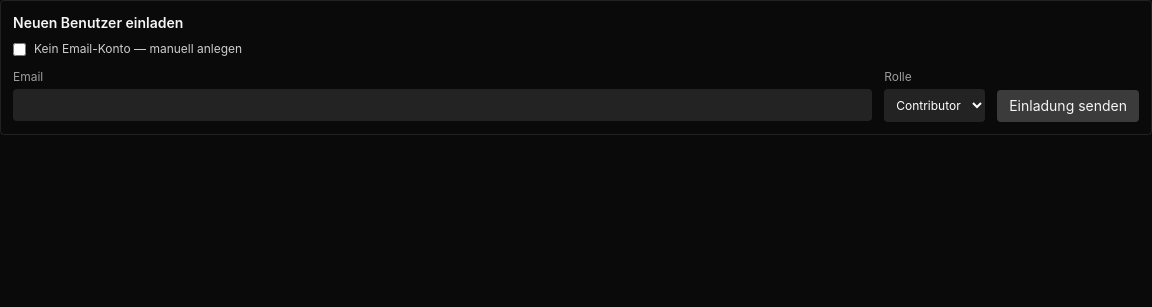
it: InviteUserForm › manual mode submits with password and shows credentials block on success
Click the checkbox labelled "Kein Email-Konto — manuell anlegen".
click(20, 49)  # box [13, 42, 26, 56]
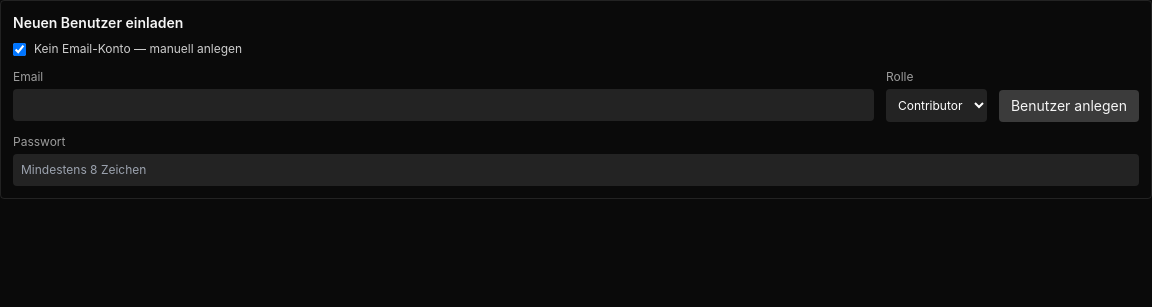
Type "helga@kunstmeile.local" into the field labelled "Email".
click(443, 105); type("helga@kunstmeile.local")  # box [13, 89, 874, 121]
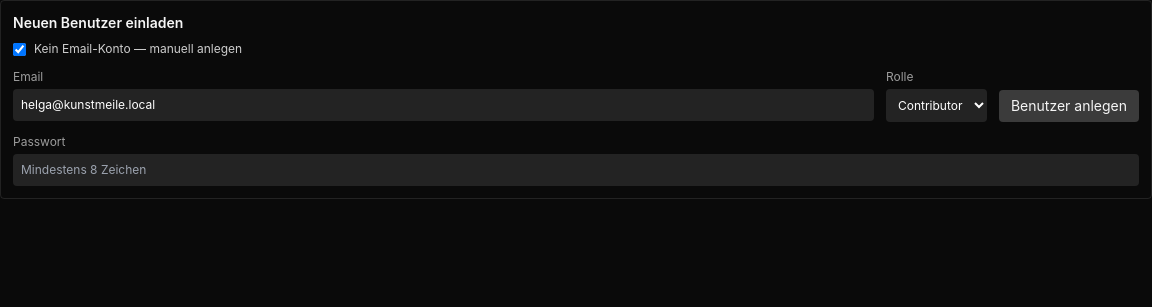
Type "sup3rsecret" into the password field labelled "Passwort".
click(576, 170); type("sup3rsecret")  # box [13, 154, 1139, 186]
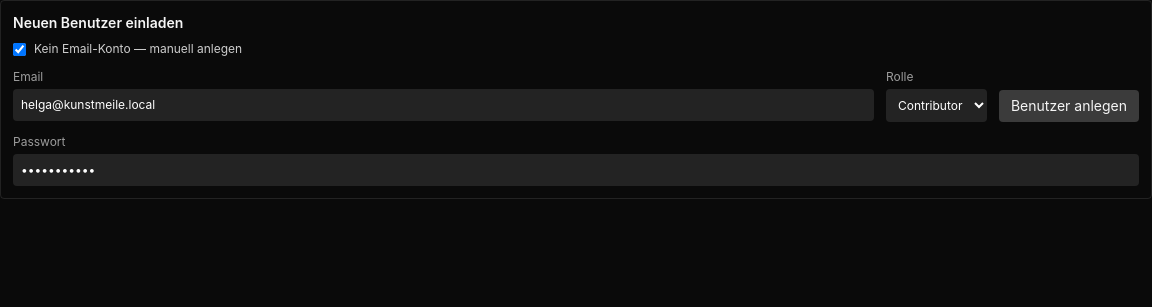
Click the button "Benutzer anlegen".
click(1069, 106)  # box [999, 90, 1139, 122]
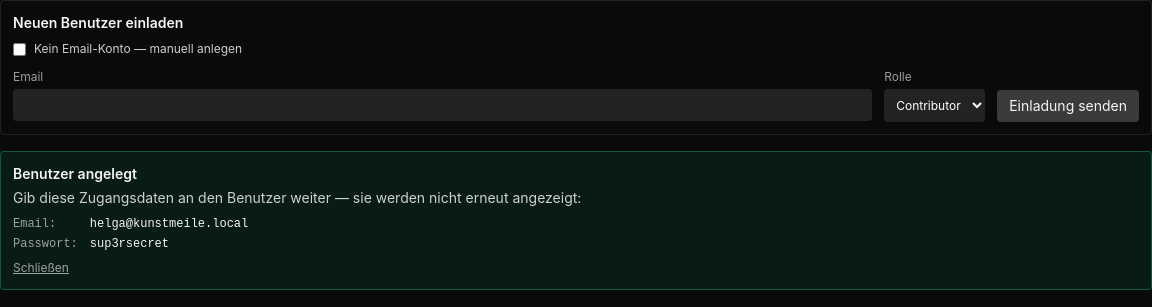
expect the text "Benutzer angelegt" is shown: met, box [13, 165, 137, 182]
expect the text "helga@kunstmeile.local" is shown: met, box [90, 217, 248, 231]
expect the text "sup3rsecret" is shown: met, box [90, 237, 169, 251]
